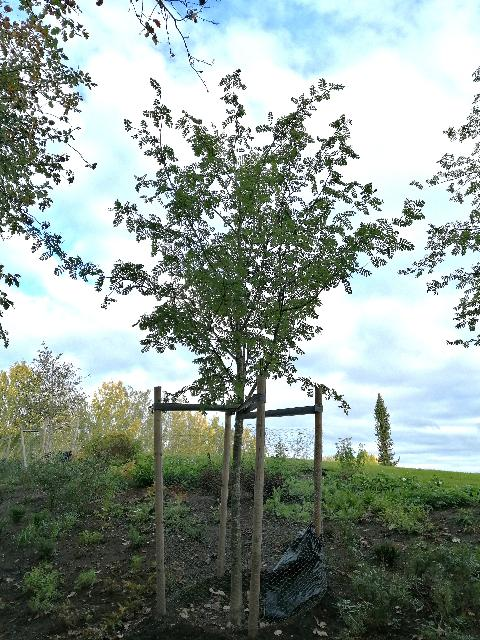rowan: (43, 64, 428, 630)
